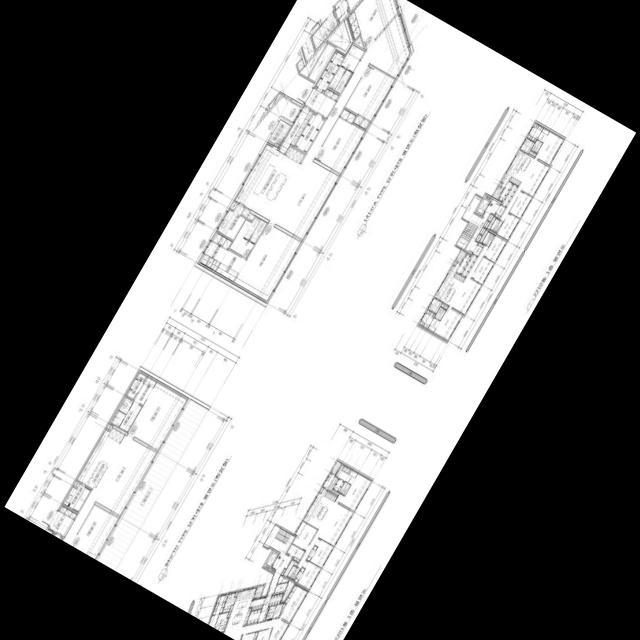background: (4, 0, 636, 640)
space_balconi: (331, 461, 342, 474), (254, 585, 264, 599)
space_bedroom: (233, 223, 302, 303), (128, 380, 189, 450), (315, 108, 365, 174), (345, 65, 395, 130), (71, 505, 119, 560), (347, 0, 399, 49), (336, 473, 372, 511), (279, 584, 308, 623), (535, 131, 564, 165), (434, 307, 462, 341), (292, 521, 317, 550), (310, 538, 334, 568), (298, 560, 321, 589), (484, 235, 507, 262), (471, 257, 494, 284), (497, 213, 520, 240), (510, 191, 532, 218), (256, 628, 272, 640), (294, 567, 305, 582), (307, 546, 318, 561), (241, 631, 258, 640)
space_dressroom: (197, 232, 233, 273), (215, 250, 246, 283), (134, 375, 157, 405), (126, 370, 148, 399), (212, 594, 229, 615), (527, 122, 544, 142), (419, 309, 436, 329), (336, 465, 351, 481), (333, 479, 344, 492)
space_elevator: (475, 194, 492, 216), (264, 550, 279, 570)
space_elevator_hall: (462, 195, 501, 253), (264, 525, 295, 595)
space_front: (315, 49, 346, 92), (304, 88, 339, 118), (48, 505, 77, 536), (501, 184, 518, 207), (258, 595, 272, 622), (461, 254, 477, 277), (287, 544, 305, 562), (247, 609, 262, 624), (269, 592, 284, 606), (473, 242, 484, 256), (495, 205, 506, 218)
space_kitchen: (234, 142, 305, 219), (77, 428, 125, 489), (225, 587, 257, 631), (303, 488, 337, 529), (501, 150, 535, 188), (435, 262, 465, 305), (457, 254, 471, 274), (499, 181, 513, 201)
space_living_room: (269, 12, 411, 239), (63, 435, 157, 545), (297, 502, 353, 568), (500, 158, 550, 221), (450, 245, 489, 315), (224, 618, 289, 640)
space_multipurpose_space: (217, 204, 246, 240), (63, 484, 91, 512)
space_other: (268, 50, 314, 105), (279, 106, 313, 152), (295, 113, 325, 152), (308, 43, 335, 82), (300, 42, 327, 77), (327, 21, 351, 51), (222, 592, 236, 612), (282, 580, 295, 601), (323, 473, 338, 491), (520, 138, 535, 153), (284, 560, 298, 576), (250, 597, 266, 611), (428, 298, 442, 313), (269, 93, 282, 109), (242, 208, 255, 220), (274, 582, 288, 593), (354, 36, 364, 48), (277, 575, 289, 584), (487, 217, 496, 229), (480, 230, 488, 242), (297, 59, 304, 71), (227, 605, 233, 617), (230, 201, 238, 210), (280, 603, 286, 614), (480, 227, 486, 235), (484, 220, 490, 228), (476, 234, 482, 242), (331, 489, 339, 495), (106, 424, 113, 430), (73, 481, 80, 487), (488, 214, 494, 221), (441, 303, 448, 309), (529, 151, 536, 156), (281, 569, 286, 575), (319, 487, 324, 493), (270, 568, 275, 572), (499, 182, 503, 186), (235, 591, 238, 596)
space_outdoor_room: (269, 119, 291, 145), (456, 250, 467, 263), (492, 186, 503, 199)
space_staircase: (456, 222, 477, 249), (275, 528, 291, 544)
space_toilet: (230, 216, 267, 258), (119, 402, 142, 432), (341, 45, 364, 72), (335, 69, 352, 93), (329, 66, 346, 90), (214, 612, 229, 632), (111, 410, 126, 427), (119, 397, 133, 414), (490, 218, 503, 233), (537, 127, 550, 142), (287, 565, 300, 580), (482, 232, 495, 246), (428, 317, 440, 332), (345, 470, 357, 484), (272, 603, 283, 618), (208, 614, 219, 628), (342, 483, 351, 495), (531, 139, 540, 151), (534, 141, 543, 153), (339, 482, 348, 493), (438, 308, 446, 320), (435, 307, 443, 319), (268, 605, 277, 613), (266, 612, 274, 620)
